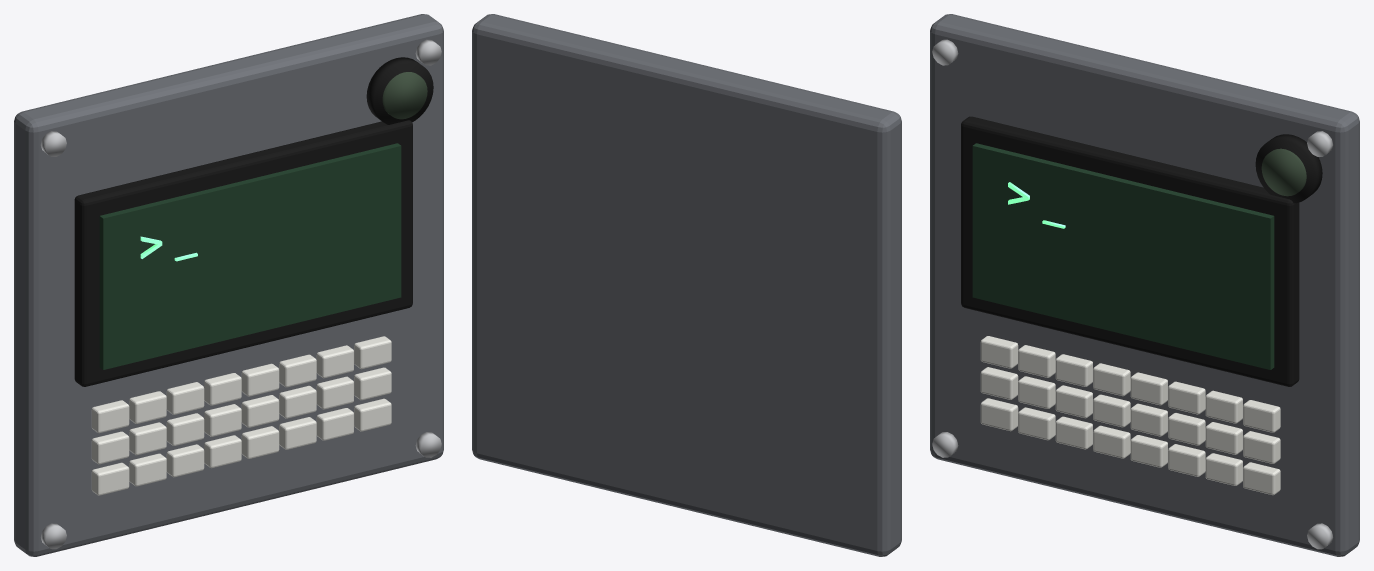
File: terminal.glb
3 views of the same model, side by side, from view 1: azimuth 30°, elevation 25°; view 2: azimuth 150°, elevation 25°; view 3: azimuth 330°, elevation 25° (orthographic).
Visible parts, largest first — view 1: terminal_Plate, terminal_Screen, terminal_Bezel, terminal_StatusRing, terminal_StatusLED, terminal_Key1_4, terminal_Key2_0, terminal_Key2_2, terminal_Key2_4, terminal_Key0_4, terminal_Key0_0, terminal_Key1_0 (+20 smaller); view 2: terminal_Plate; view 3: terminal_Plate, terminal_Screen, terminal_Bezel, terminal_StatusRing, terminal_StatusLED, terminal_Key1_0, terminal_Key0_0, terminal_Key2_0, terminal_Key1_3, terminal_Key2_4, terminal_Key0_1, terminal_Key0_3 (+20 smaller).
Part boxes in pixels (box(x1,y1,x2,y2)): terminal_Plate: box(14, 14, 443, 556); terminal_Screen: box(99, 143, 401, 369); terminal_Bezel: box(74, 120, 412, 386); terminal_StatusRing: box(366, 57, 433, 124); terminal_StatusLED: box(382, 72, 427, 119); terminal_Key1_4: box(241, 395, 279, 427); terminal_Key2_0: box(91, 462, 129, 495); terminal_Key2_2: box(166, 444, 204, 477); terminal_Key2_4: box(241, 426, 279, 458); terminal_Key0_4: box(241, 363, 279, 396); terminal_Key0_0: box(91, 400, 129, 433); terminal_Key1_0: box(91, 431, 129, 464); terminal_Plate: box(472, 14, 901, 556); terminal_Plate: box(930, 14, 1359, 556); terminal_Screen: box(972, 143, 1274, 369); terminal_Bezel: box(961, 116, 1299, 386); terminal_StatusRing: box(1255, 134, 1322, 203); terminal_StatusLED: box(1261, 148, 1306, 196); terminal_Key1_0: box(980, 367, 1018, 399); terminal_Key0_0: box(980, 336, 1018, 368); terminal_Key2_0: box(980, 398, 1018, 431); terminal_Key1_3: box(1093, 394, 1130, 427); terminal_Key2_4: box(1130, 435, 1167, 467); terminal_Key0_1: box(1018, 345, 1055, 377); terminal_Key0_3: box(1093, 363, 1130, 396).
Bounding box in the file's own units: 0.98 × 0.98 × 0.142.
